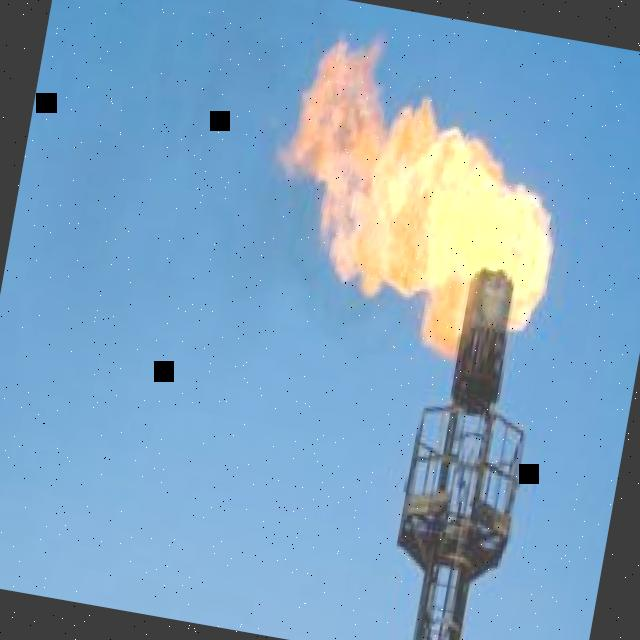fire: (279, 37, 555, 357)
